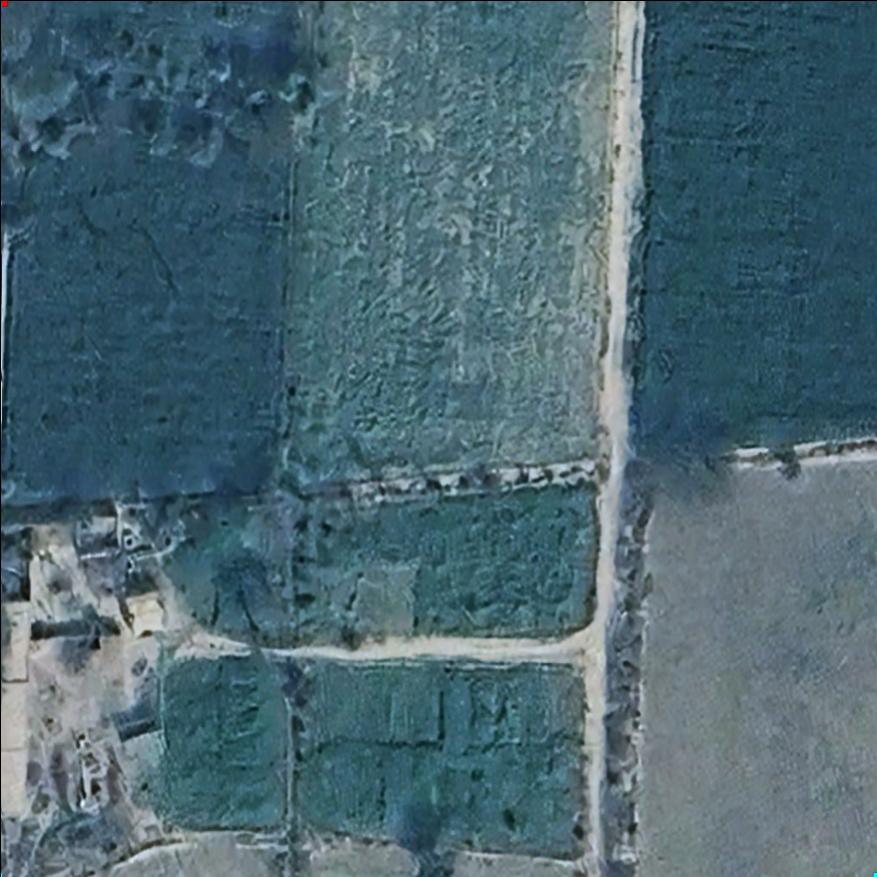Solarpanel: (119, 727, 169, 760)
